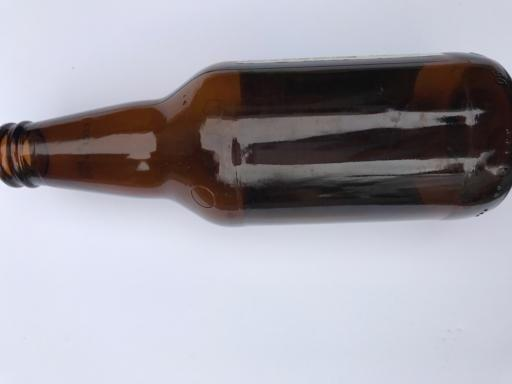botolkaca: (1, 54, 512, 227)
